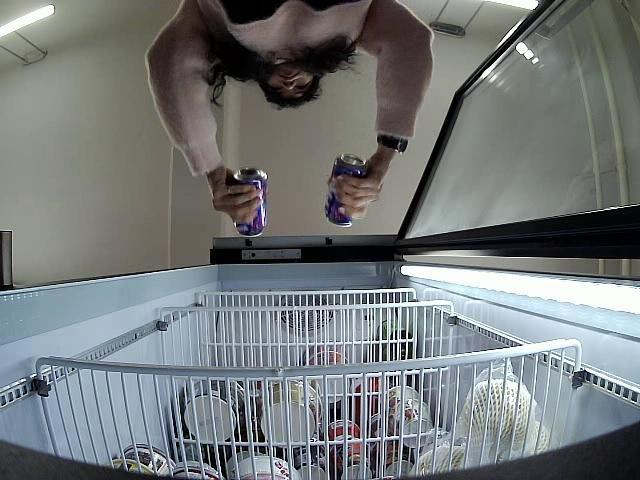14_welchsGrape: (324, 154, 367, 226), (234, 168, 269, 237)
